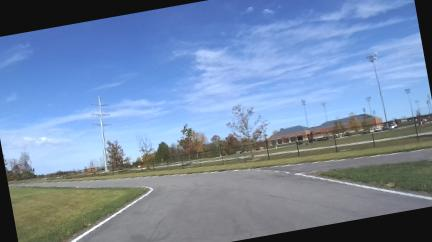Grass: (50, 137, 431, 181), (9, 187, 146, 241), (316, 161, 431, 193), (336, 121, 431, 145)
Lane: (23, 150, 431, 241)
